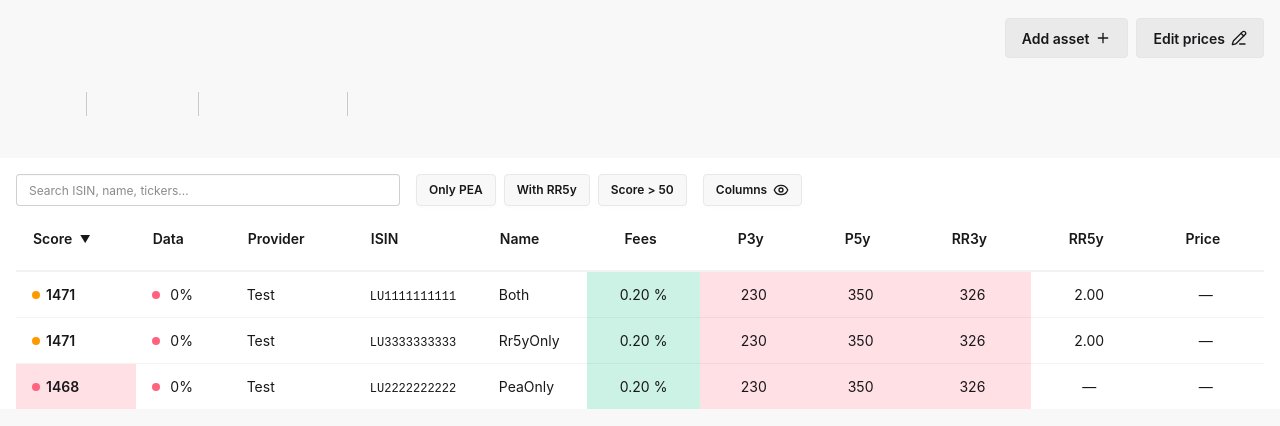
Test case: AssetTable - filter › preset filter buttons combine with each other
Click the button with test id "filter-only-pea": (456, 190) [416, 174, 496, 206]
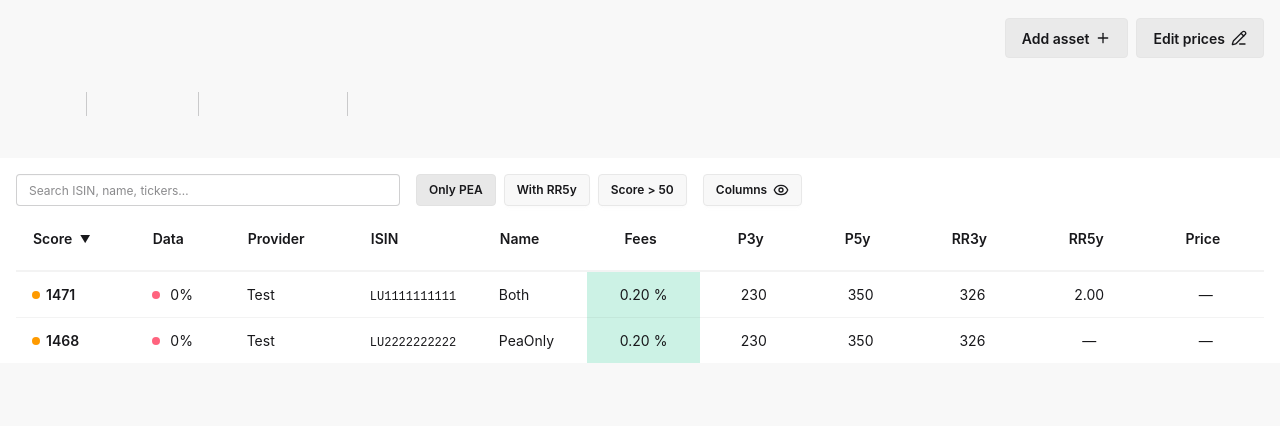
Click the button with test id "filter-with-rr5y": (547, 190) [504, 174, 590, 206]
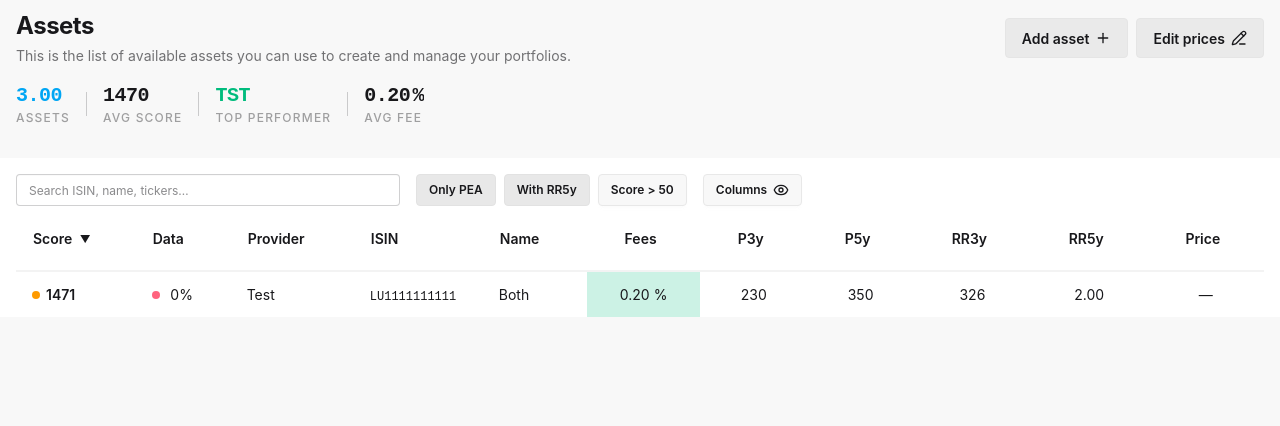
Expected: the row with test id "asset-row-LU1111111111" shows "Both", [499, 286, 529, 303]
Now the row with test id "asset-row-LU2222222222" is gone
